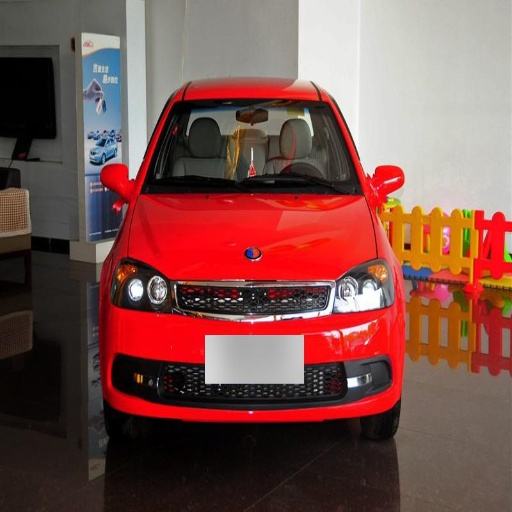front_bumper: (108, 280, 403, 421)
front_right_light: (112, 259, 143, 306)
hood: (126, 194, 375, 281)
